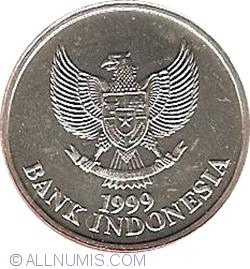coin_100_e1999: (0, 0, 250, 255)
